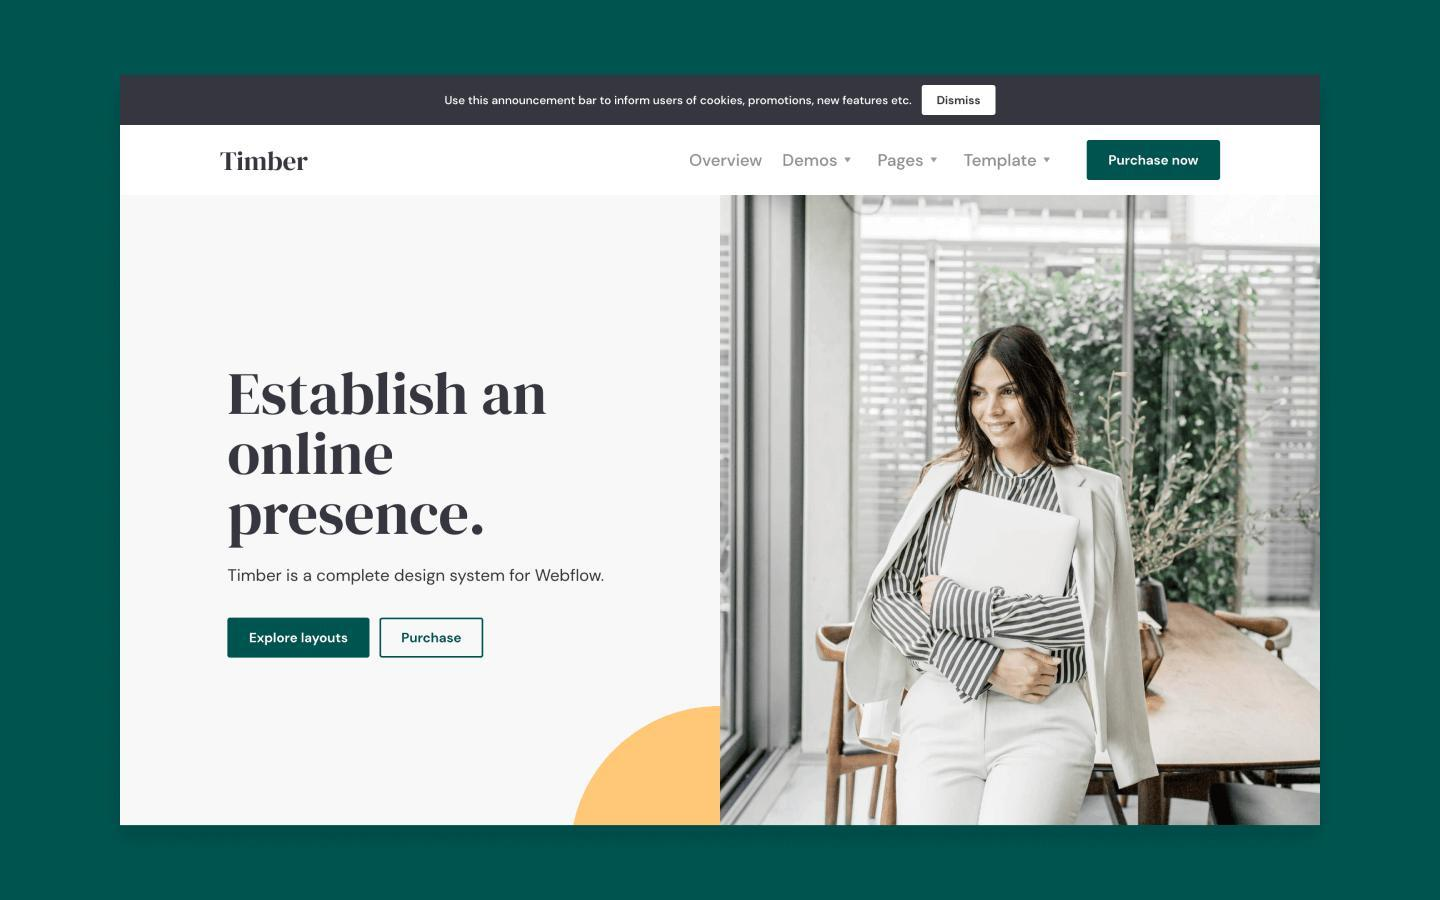button: (229, 617, 370, 659), (1088, 141, 1221, 182), (380, 619, 484, 658), (923, 87, 997, 117)
icon: (927, 152, 945, 169), (841, 152, 857, 169), (1041, 152, 1055, 168)
label: (685, 151, 768, 172), (962, 151, 1036, 173), (780, 151, 840, 171), (879, 152, 925, 171)
